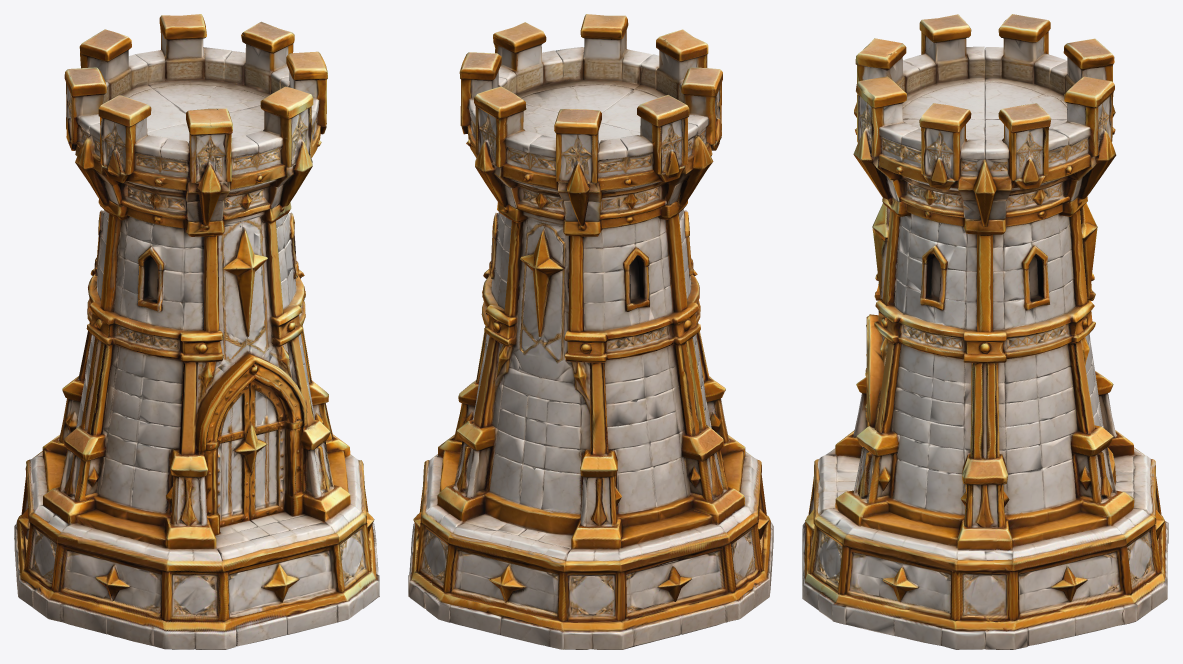
The model's file is rook_w.glb.
3 views of the same model, side by side, from view 1: azimuth 30°, elevation 25°; view 2: azimuth 150°, elevation 25°; view 3: azimuth 270°, elevation 25° (orthographic).
Parts seen in each view (by area): view 1: tripo_node_42edf235-d981-479b-96dd-c89f46c0091f; view 2: tripo_node_42edf235-d981-479b-96dd-c89f46c0091f; view 3: tripo_node_42edf235-d981-479b-96dd-c89f46c0091f.
Part boxes in pixels (x1,y1,x2,y2): tripo_node_42edf235-d981-479b-96dd-c89f46c0091f: [14, 14, 379, 649]; tripo_node_42edf235-d981-479b-96dd-c89f46c0091f: [408, 14, 773, 649]; tripo_node_42edf235-d981-479b-96dd-c89f46c0091f: [802, 14, 1168, 649].
Bounding box in the file's own units: 0.6693 × 0.9797 × 0.646.
1 material, 1 textured.
